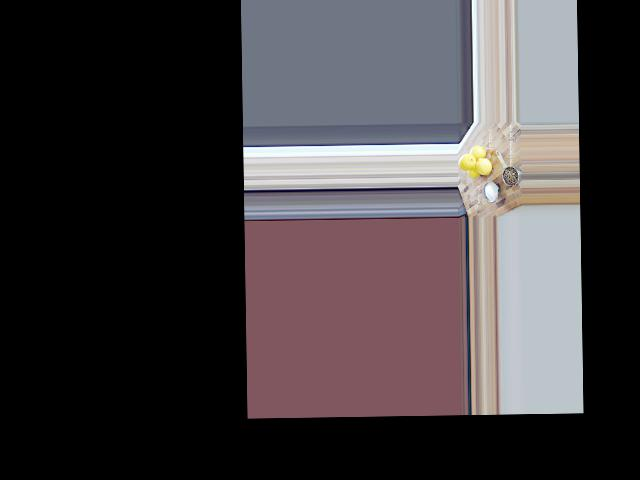lemon: (468, 166, 480, 179)
